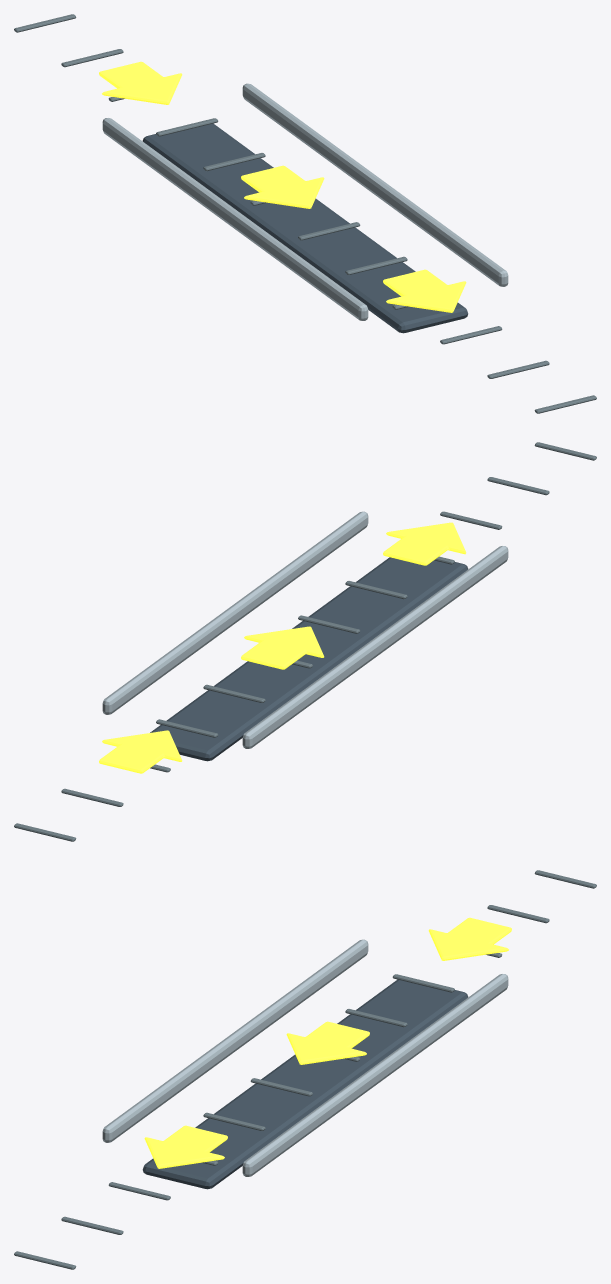
Rendered from PR3D_Rail_Straight_5p28.fbx.
The picture shows the model from 3 angles, top to bottom: view 1: azimuth 30°, elevation 25°; view 2: azimuth 150°, elevation 25°; view 3: azimuth 330°, elevation 25°; orthographic projection.
Parts seen in each view (by area): view 1: Visual_StraightDeck, Visual_StraightRail_L, Visual_StraightRail_R, Arrow_Straight_05, Arrow_Straight_02, Arrow_Straight_08; view 2: Visual_StraightDeck, Visual_StraightRail_L, Visual_StraightRail_R, Arrow_Straight_02, Arrow_Straight_08, Arrow_Straight_05; view 3: Visual_StraightDeck, Visual_StraightRail_L, Visual_StraightRail_R, Arrow_Straight_05, Arrow_Straight_02, Arrow_Straight_08.
Part boxes in pixels (left/top/right/bottom): Visual_StraightDeck: left=142, top=123, right=468, bottom=333; Visual_StraightRail_L: left=102, top=118, right=368, bottom=320; Visual_StraightRail_R: left=242, top=83, right=508, bottom=286; Arrow_Straight_05: left=241, top=165, right=324, bottom=208; Arrow_Straight_02: left=99, top=61, right=182, bottom=104; Arrow_Straight_08: left=383, top=269, right=466, bottom=312; Visual_StraightDeck: left=150, top=557, right=468, bottom=761; Visual_StraightRail_L: left=242, top=546, right=508, bottom=748; Visual_StraightRail_R: left=102, top=511, right=368, bottom=714; Arrow_Straight_02: left=99, top=730, right=182, bottom=773; Arrow_Straight_08: left=383, top=522, right=466, bottom=565; Arrow_Straight_05: left=241, top=626, right=324, bottom=669; Visual_StraightDeck: left=142, top=979, right=468, bottom=1189; Visual_StraightRail_L: left=102, top=939, right=368, bottom=1142; Visual_StraightRail_R: left=242, top=974, right=508, bottom=1176; Arrow_Straight_05: left=286, top=1021, right=369, bottom=1064; Arrow_Straight_02: left=428, top=917, right=511, bottom=960; Arrow_Straight_08: left=144, top=1125, right=227, bottom=1168.
Size of the model in its own units: 0.875 by 0.215 by 5.32.
